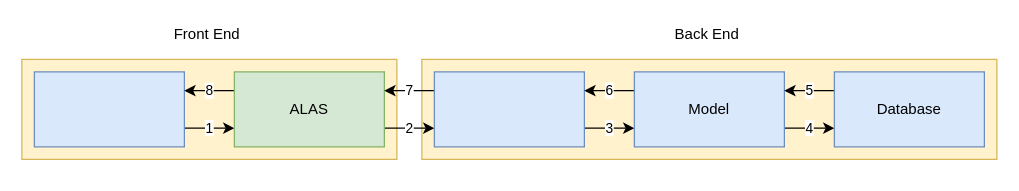
Image size: 1019x191. Some labels were removed from this diagram. Each missing label, with the box of its shape:
API Server: (433, 71, 584, 147)
HTML: (33, 71, 184, 147)
